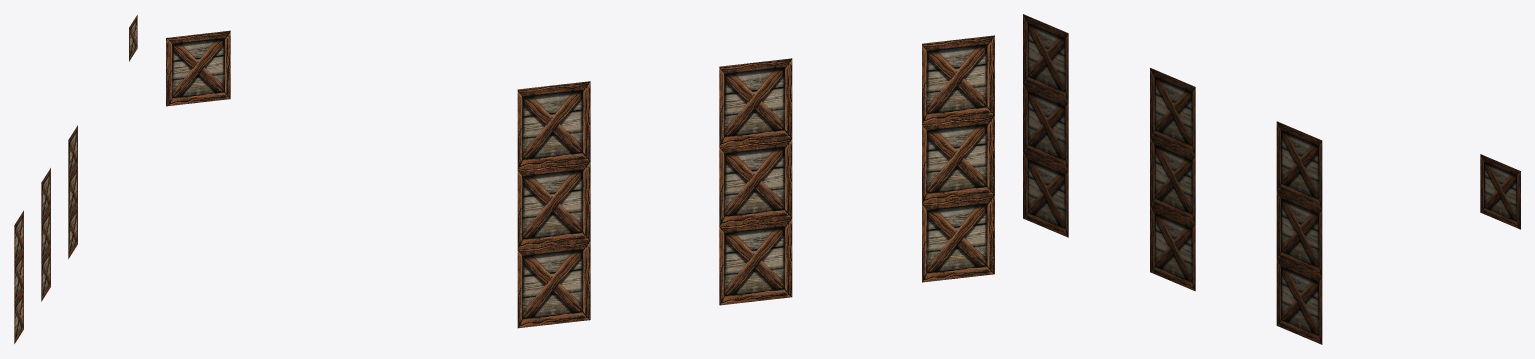
Rendered from LAKETOWN_EXTERIOR_PS_LT_PANELS2678.fbx.
3 views of the same model, side by side, from view 1: azimuth 30°, elevation 25°; view 2: azimuth 150°, elevation 25°; view 3: azimuth 270°, elevation 25° (orthographic). The views are drawn at different scales.
Visible parts, largest first — view 1: LAKETOWN_EXTERIOR_PS_LT_PANELS2678; view 2: LAKETOWN_EXTERIOR_PS_LT_PANELS2678; view 3: LAKETOWN_EXTERIOR_PS_LT_PANELS2678.
Boxes of the visible parts, box(x1,y1,x2,y2) form: LAKETOWN_EXTERIOR_PS_LT_PANELS2678: box(14, 15, 137, 343); LAKETOWN_EXTERIOR_PS_LT_PANELS2678: box(166, 30, 994, 328); LAKETOWN_EXTERIOR_PS_LT_PANELS2678: box(1023, 14, 1520, 344).
Bounding box in the file's own units: 84202 × 47539 × 78811.
Materials: 1 (1 with a texture image).
